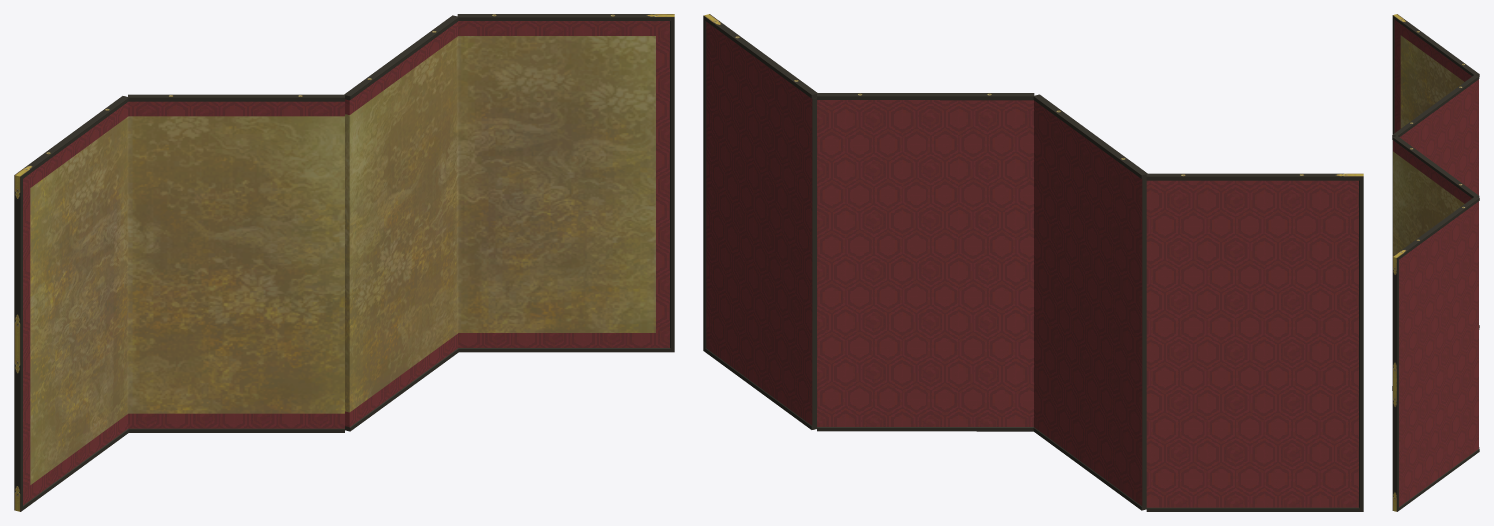
File: FoldingScreenGold01.fbx
The picture shows the model from 3 angles, left to right: view 1: azimuth 30°, elevation 25°; view 2: azimuth 150°, elevation 25°; view 3: azimuth 270°, elevation 25°; orthographic projection. The views are drawn at different scales.
Visible parts, largest first — view 1: FoldingScreenGold01; view 2: FoldingScreenGold01; view 3: FoldingScreenGold01.
Part boxes in pixels (x1,y1,x2,y2): FoldingScreenGold01: (14, 14, 674, 511); FoldingScreenGold01: (703, 14, 1363, 511); FoldingScreenGold01: (1392, 14, 1479, 511).
Size of the model in its own units: 330 by 160 by 49.75.
2 materials, 2 textured.
